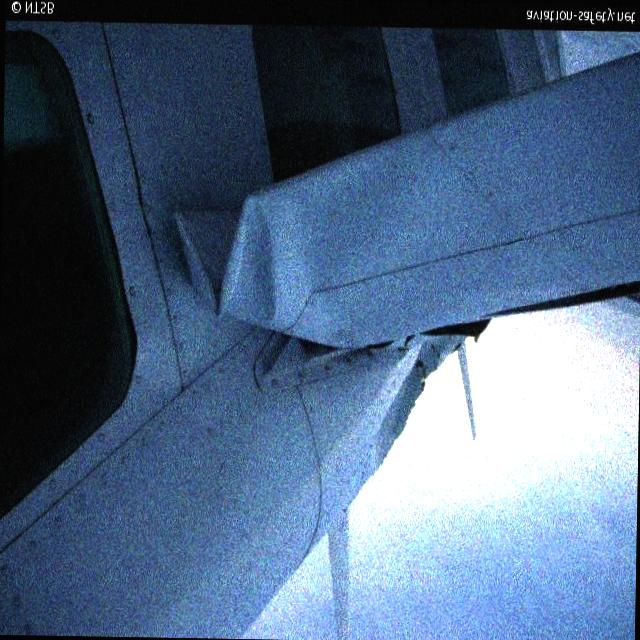dent: (166, 182, 282, 330)
